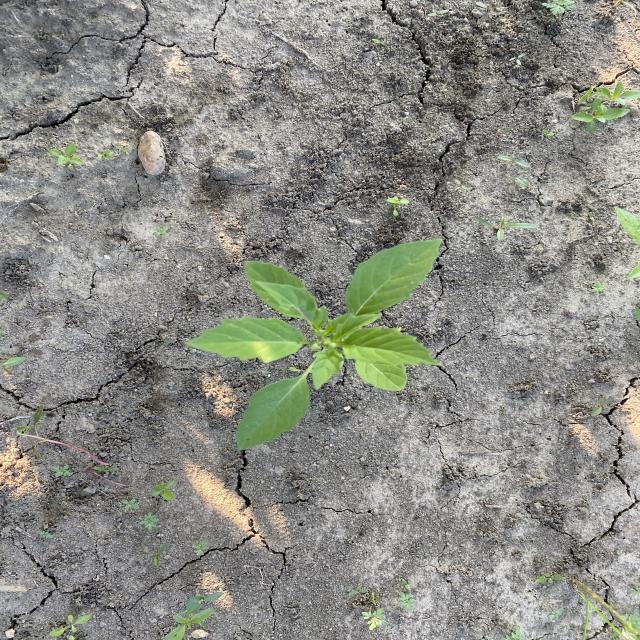CutleafGroundcherry: (182, 237, 448, 453)
Ragweed: (541, 0, 579, 16)
Waterhemp: (159, 591, 223, 638)
